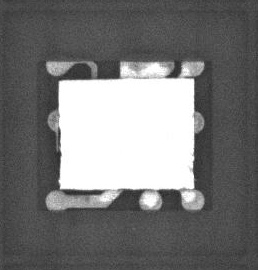DIE_BROKEN: (58, 120, 63, 186)
